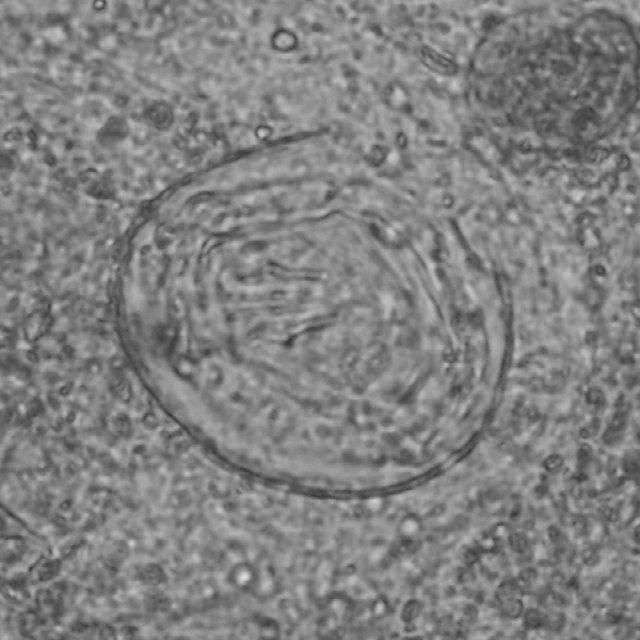Hymenolepis: (99, 123, 511, 512)
